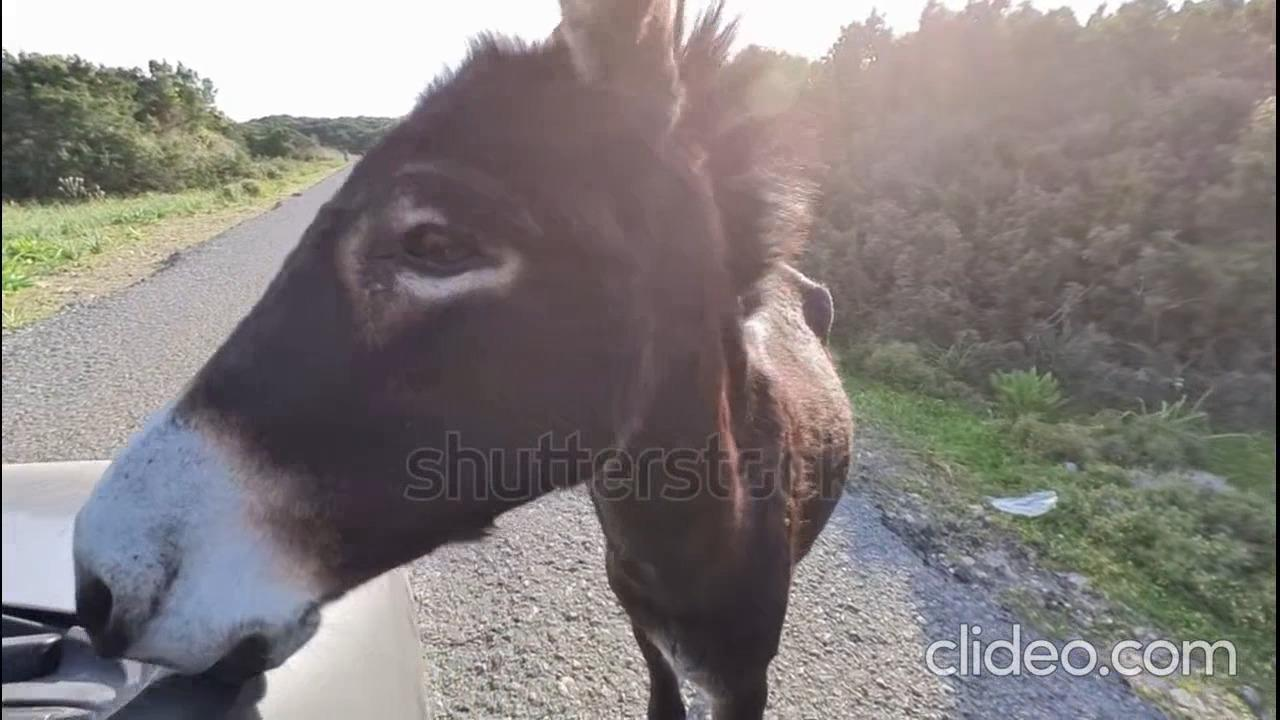Donkey: (79, 1, 865, 710)
